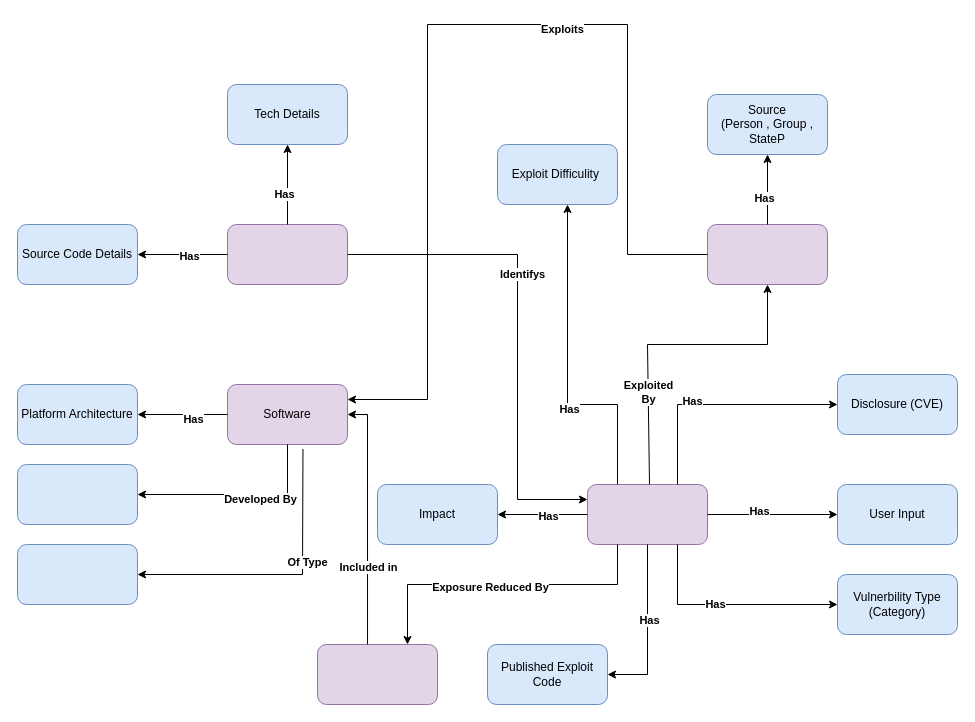
Image size: 975x722. Some labels were removed from this diagram. The centre of each missing label's shape, as x and y in pixels:
"Developer / Supplier" belongs at point 77,494.
"Protection" belongs at point 377,674.
"Security Reasearch" belongs at point 287,254.
"Software Type" belongs at point 77,574.
"Threat" belongs at point 767,254.
"Vulnerbility" belongs at point 647,514.
